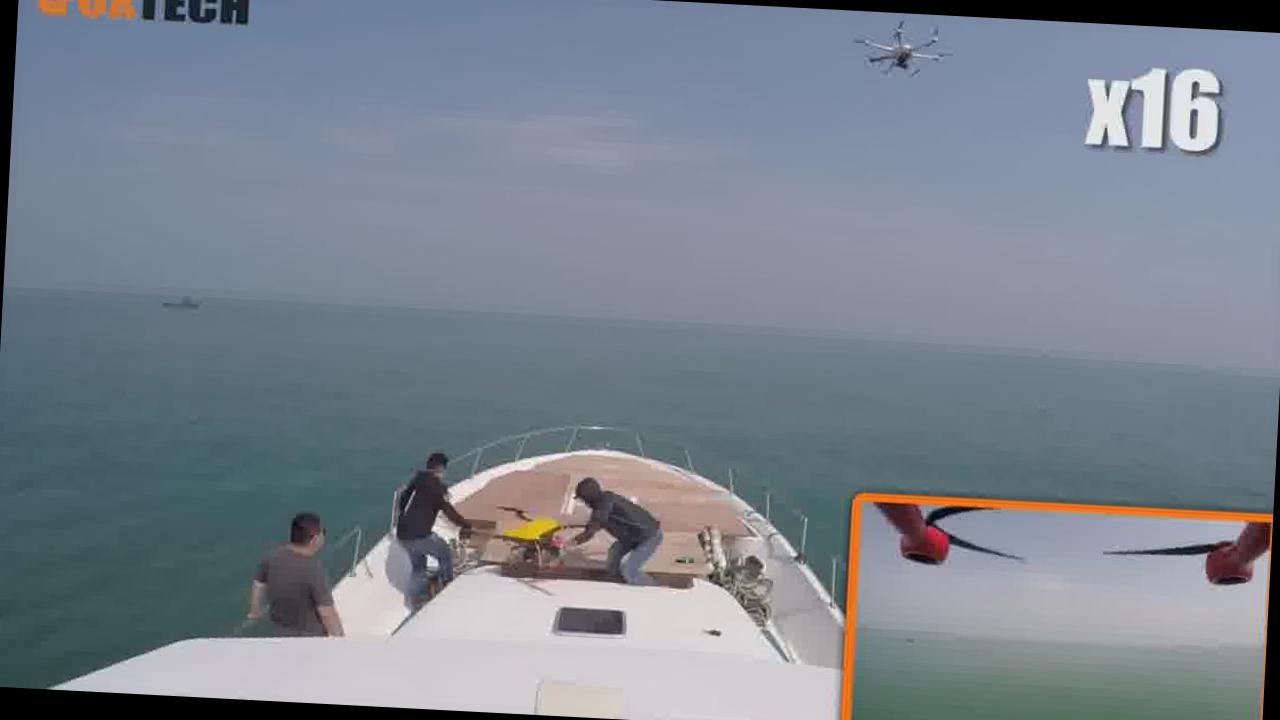drone: (850, 11, 953, 85)
